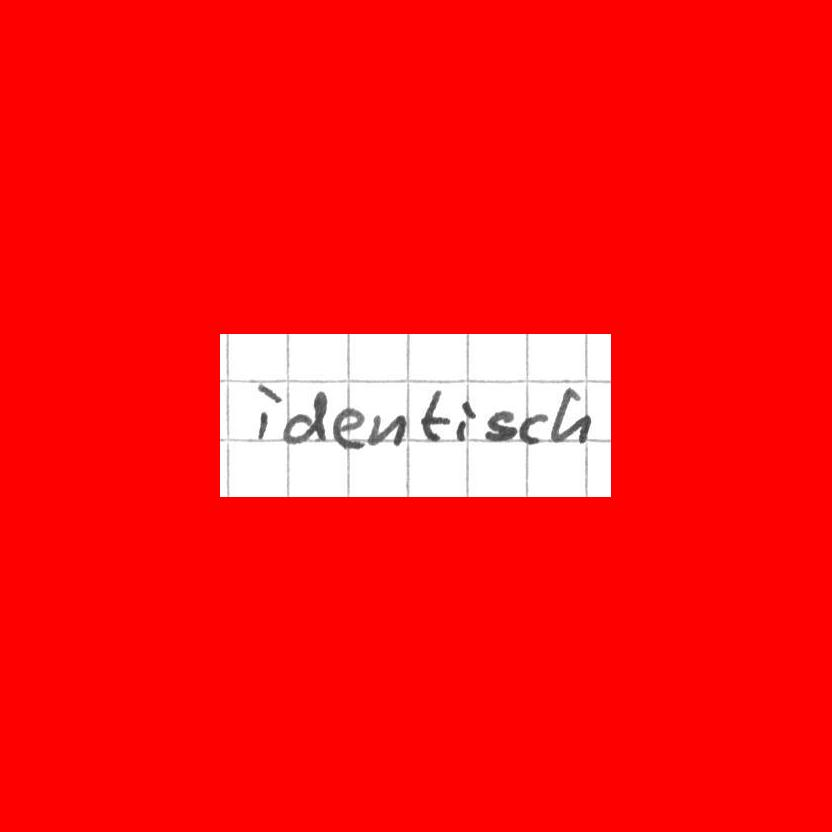Char: (550, 384, 594, 446), (282, 392, 331, 447), (252, 380, 284, 447), (418, 387, 453, 442), (365, 410, 406, 445), (334, 405, 364, 449), (454, 397, 480, 443), (485, 408, 519, 443), (519, 412, 549, 446)
